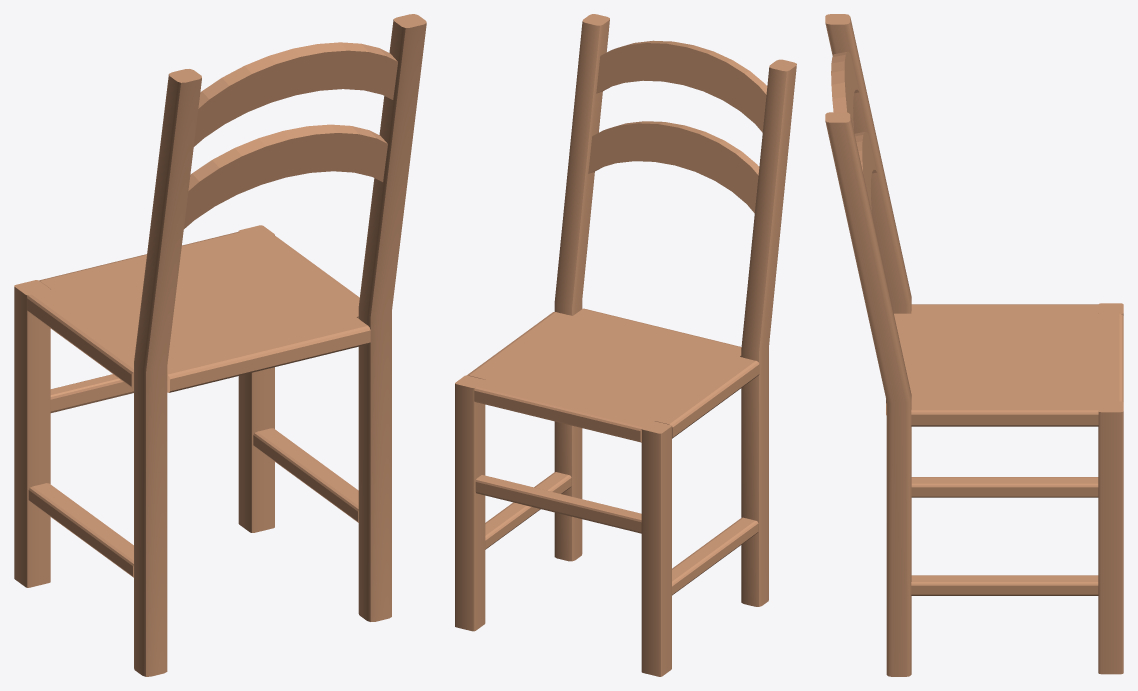
File: Chair.fbx
3 views of the same model, side by side, from view 1: azimuth 30°, elevation 25°; view 2: azimuth 150°, elevation 25°; view 3: azimuth 270°, elevation 25° (orthographic). The views are drawn at different scales.
Parts seen in each view (by area): view 1: Cube.005; view 2: Cube.005; view 3: Cube.005.
Boxes of the visible parts, x1,y1,x2,y2 form: Cube.005: (14, 14, 426, 676); Cube.005: (455, 14, 796, 676); Cube.005: (825, 14, 1123, 676).
Size of the model in its own units: 336 by 795 by 388.
